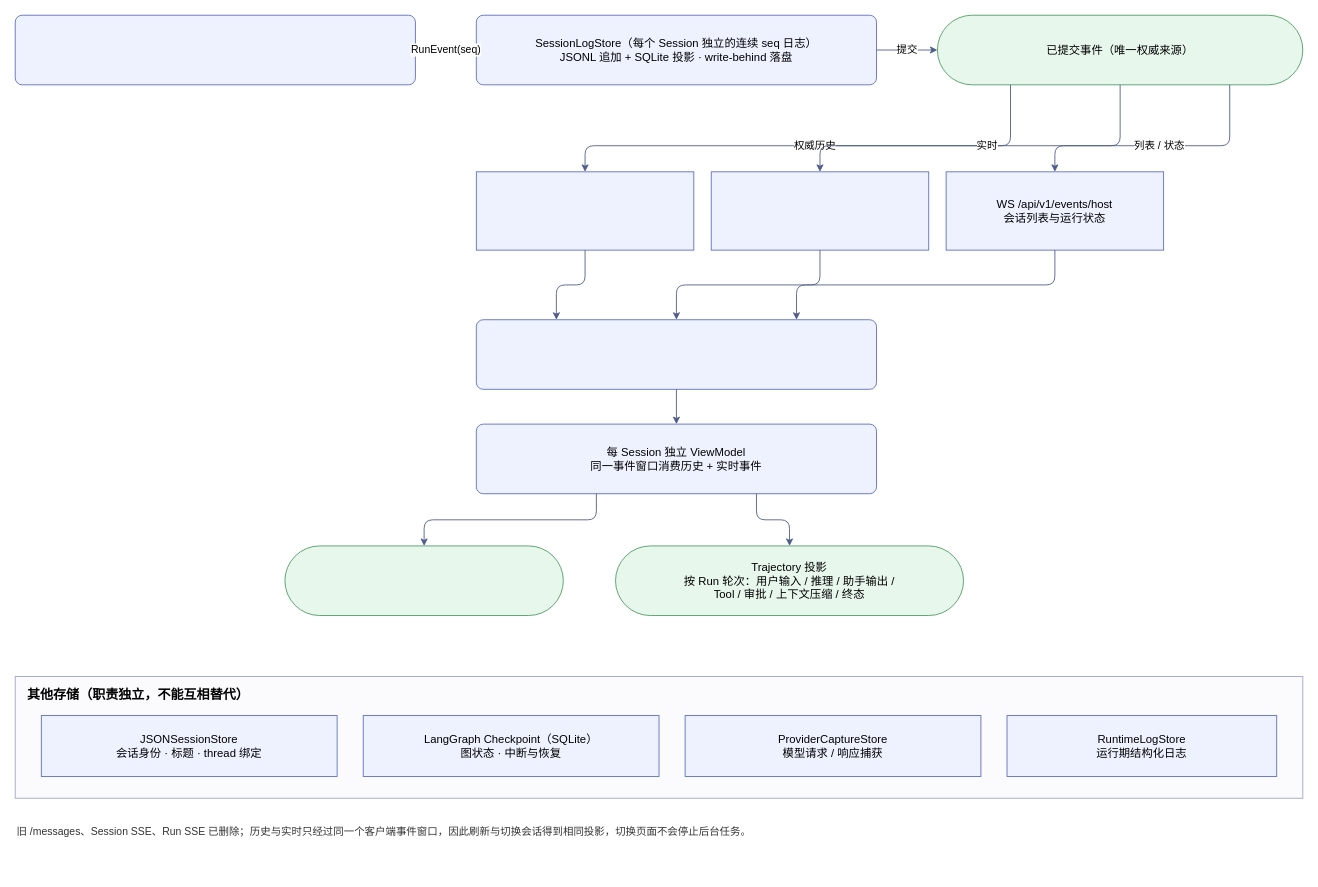
Some shapes in this 1318 by 887 pixel diagram are drawn without their labels. Each missing label, with the centre of its shape:
Chat 投影 面向对话阅读: (x=423, y=580)
GET /api/v1/sessions/{id}/events ?cursor= · 历史分页回放: (x=584, y=210)
Worker：RunManager / LangGraphEngine 用户消息 · 推理 · 文本增量 · Tool · 审批 · inbox · 终态: (x=214, y=49)
WS /api/v1/events/mux 一条连接推送所有 Session: (x=819, y=210)
客户端事件窗口 按 seq 去重 · 发现缺口后重新拉取权威历史: (x=676, y=354)
